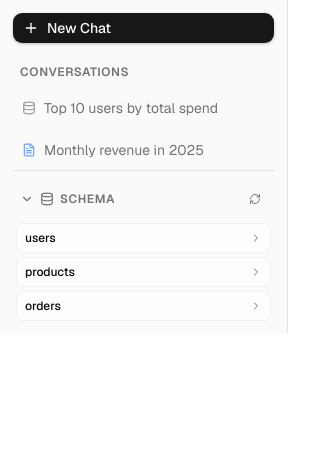
Test: Sidebar Component › renders SchemaBrowser with tables and expands columns
The width and height of the screenshot is (320, 462).
Check: the text "users" is shown, box [25, 230, 56, 246]
Check: the text "products" is shown, box [25, 264, 75, 280]
# Expand "users" table
Click the button "users" at (144, 238), box [17, 224, 270, 252]
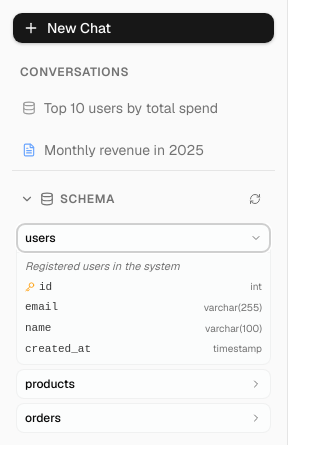
Check: the text "email" is shown, box [25, 300, 58, 315]
